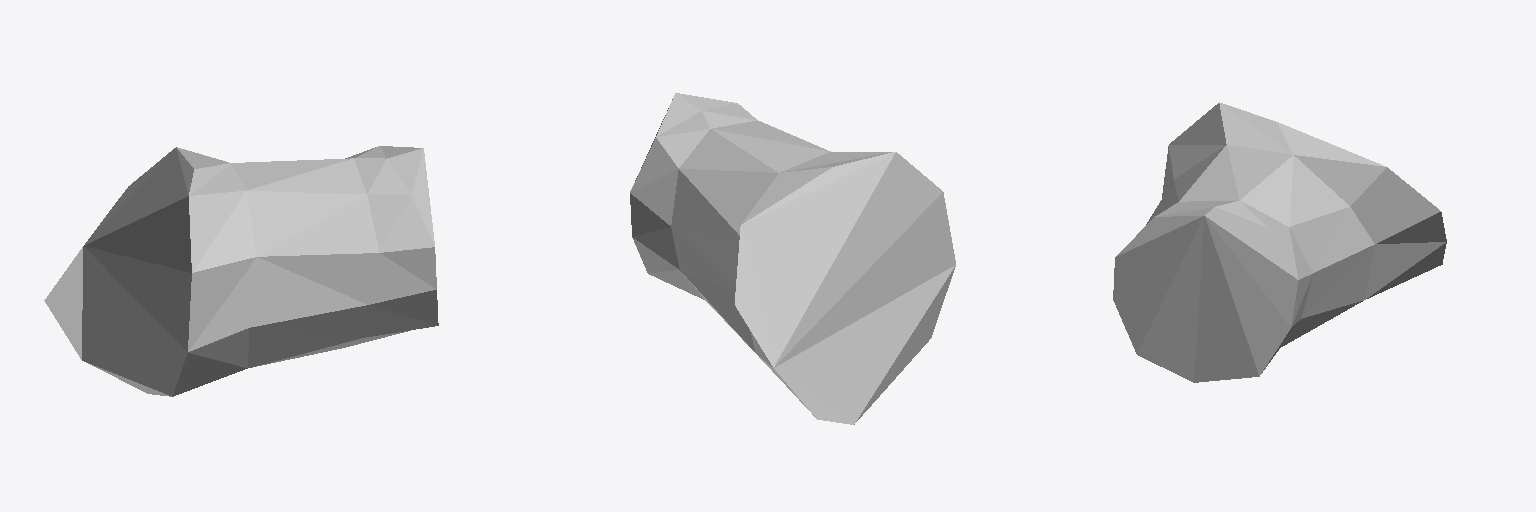
The model's file is thumb2.obj.
3 views of the same model, side by side, from view 1: azimuth 30°, elevation 25°; view 2: azimuth 150°, elevation 25°; view 3: azimuth 270°, elevation 25° (orthographic).
Bounding box in the file's own units: 32.38 × 25.14 × 35.88.